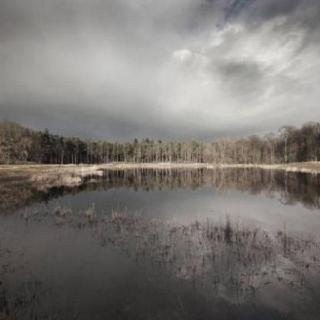Altostratus: (0, 0, 320, 136)
